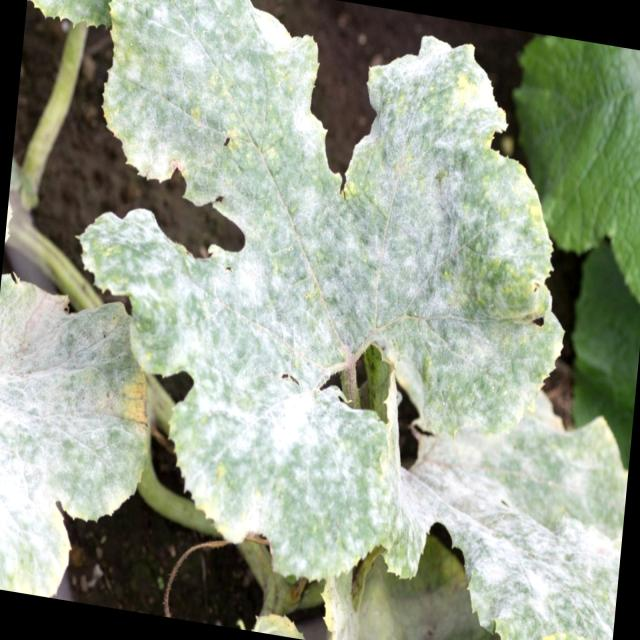Powdery Mildew: (24, 14, 639, 594)
